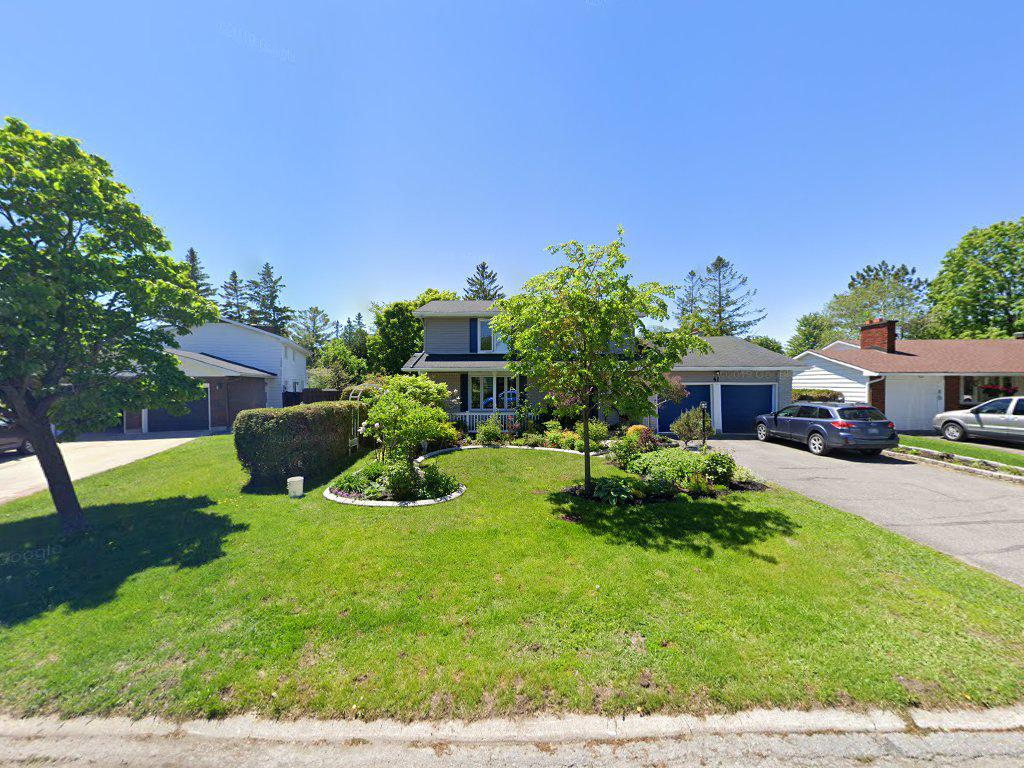trunk: (52, 480, 84, 544), (581, 416, 595, 503)
